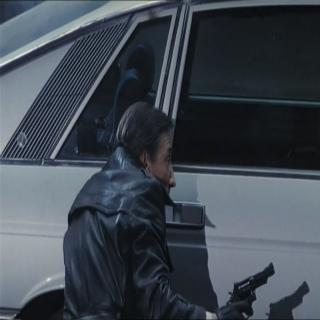gun: (227, 259, 275, 317)
